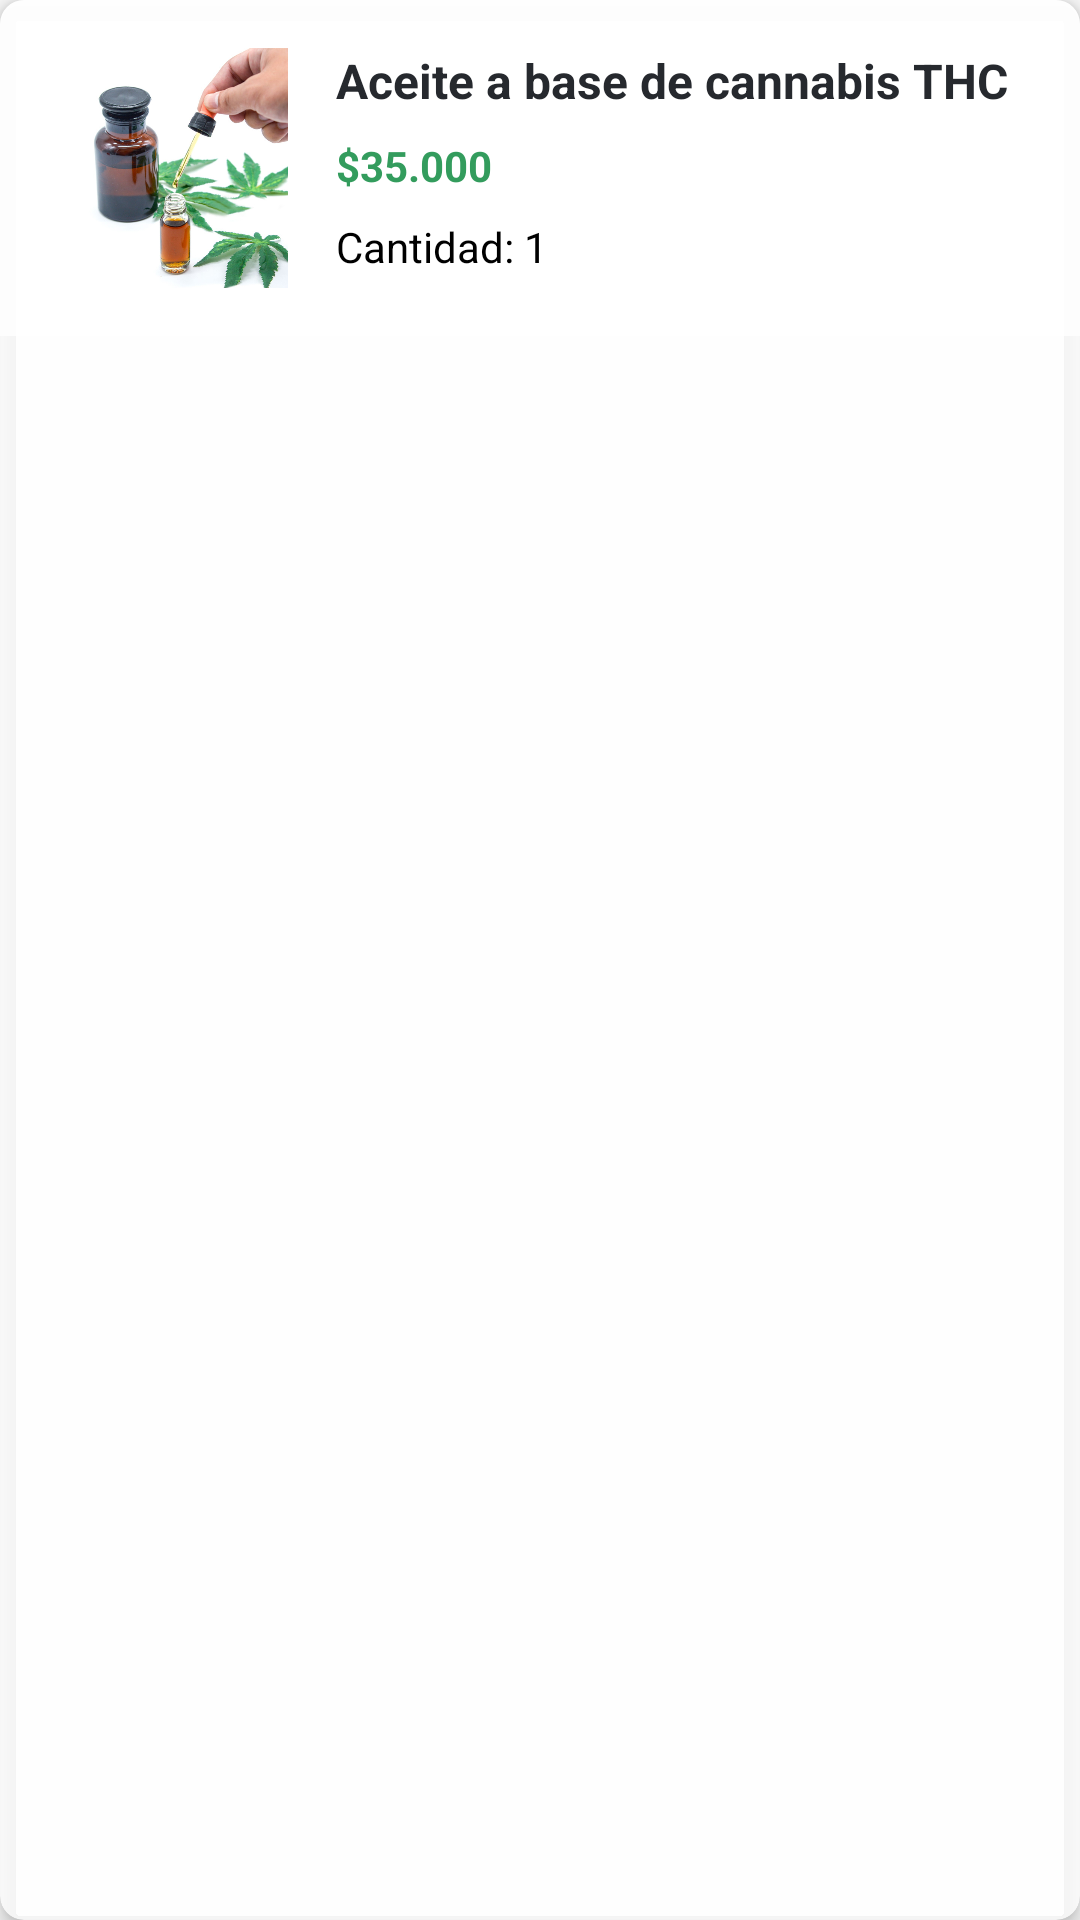

Icon bounding boxes for this 1080 × 1920 phone screenshot, format bbox=[x1, y1, x2, y2]:
cannpng: bbox=[94, 48, 288, 288]
